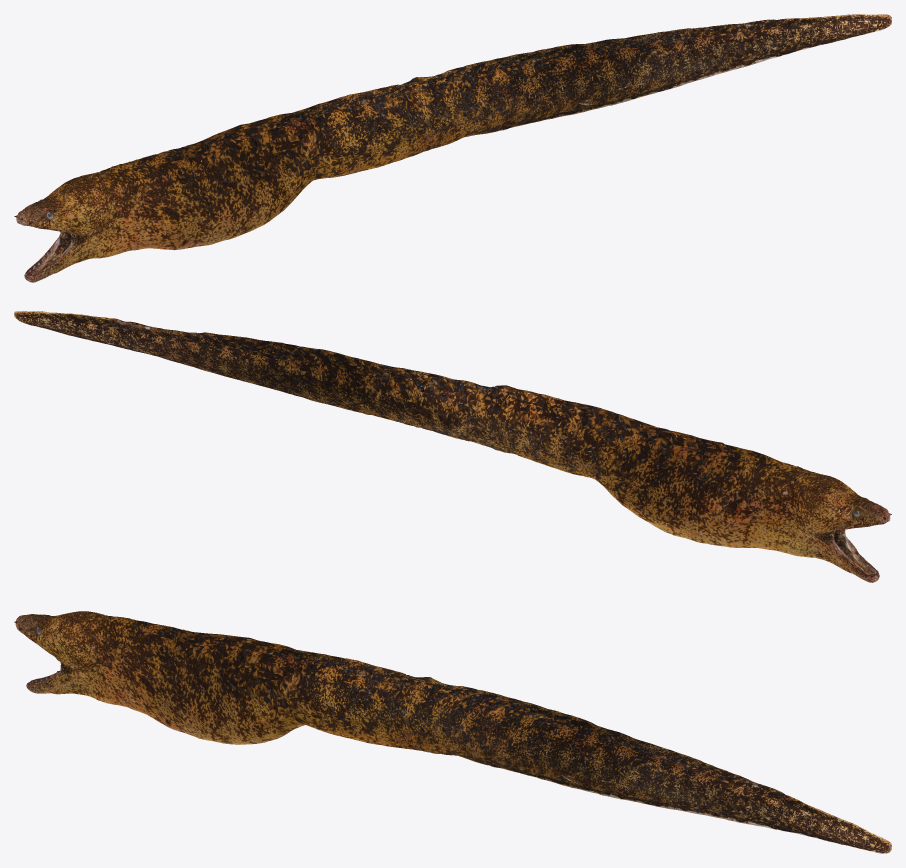
The model's file is Moray.glb.
3 renders of one model, top to bottom at view 1: azimuth 30°, elevation 25°; view 2: azimuth 150°, elevation 25°; view 3: azimuth 330°, elevation 25°, orthographic.
Parts seen in each view (by area): view 1: Q11903-1all-5_5; view 2: Q11903-1all-5_5; view 3: Q11903-1all-5_5.
Part boxes in pixels (x1=…): Q11903-1all-5_5: x1=14, y1=14, x2=891, y2=282; Q11903-1all-5_5: x1=14, y1=311, x2=891, y2=582; Q11903-1all-5_5: x1=14, y1=611, x2=891, y2=853.
Bounding box in the file's own units: 25.36 × 3.06 × 1.67.
4 materials, 4 textured.
